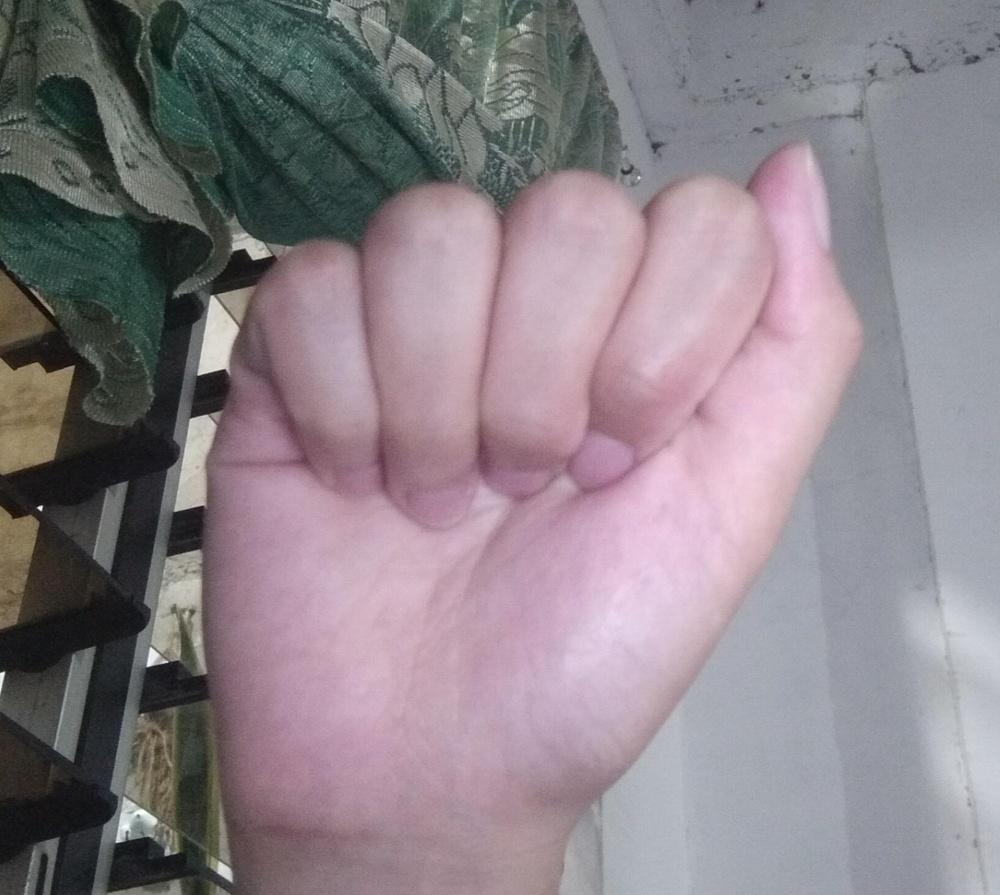a: (200, 136, 870, 836)
